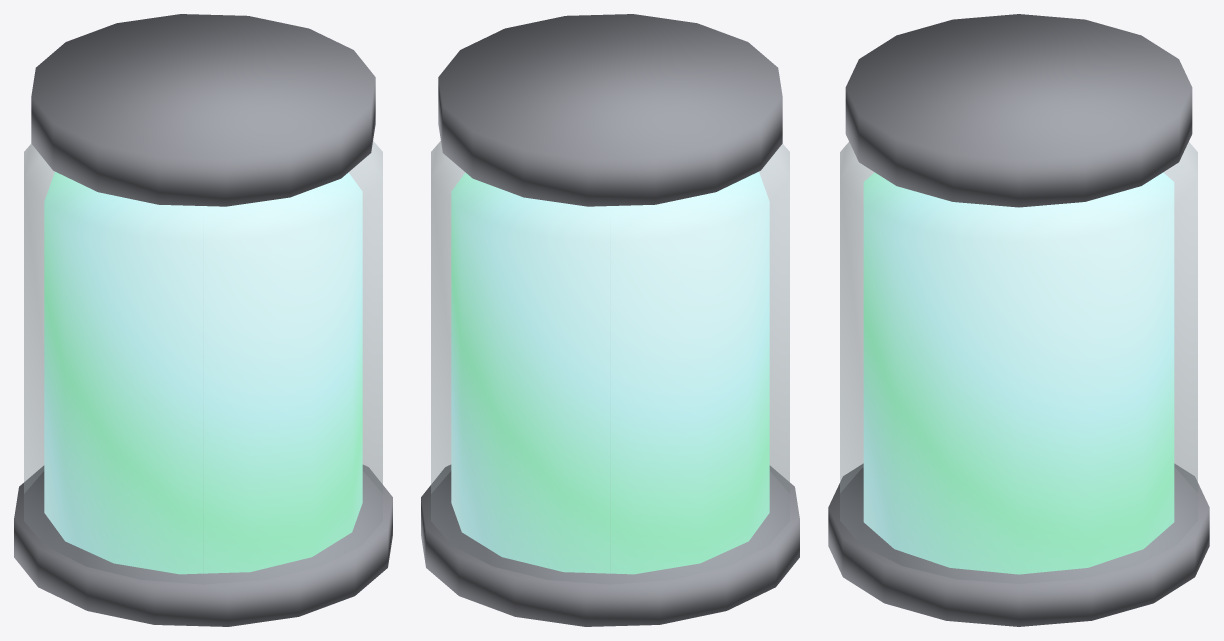
The model's file is specimen_jar_hand.glb.
3 renders of one model, left to right at view 1: azimuth 30°, elevation 25°; view 2: azimuth 150°, elevation 25°; view 3: azimuth 270°, elevation 25°, orthographic.
Visible parts, largest first — view 1: GD_specimen_jar_hand__m0, GD_specimen_jar_hand__m1, GD_specimen_jar_hand__m3; view 2: GD_specimen_jar_hand__m0, GD_specimen_jar_hand__m1, GD_specimen_jar_hand__m3; view 3: GD_specimen_jar_hand__m0, GD_specimen_jar_hand__m1, GD_specimen_jar_hand__m3.
Boxes of the visible parts, left/top/right/bottom form: GD_specimen_jar_hand__m0: left=24, top=141, right=382, bottom=584; GD_specimen_jar_hand__m1: left=44, top=172, right=362, bottom=574; GD_specimen_jar_hand__m3: left=14, top=14, right=392, bottom=626; GD_specimen_jar_hand__m0: left=431, top=141, right=789, bottom=584; GD_specimen_jar_hand__m1: left=451, top=172, right=769, bottom=574; GD_specimen_jar_hand__m3: left=421, top=14, right=799, bottom=626; GD_specimen_jar_hand__m0: left=840, top=142, right=1197, bottom=583; GD_specimen_jar_hand__m1: left=863, top=172, right=1174, bottom=574; GD_specimen_jar_hand__m3: left=828, top=14, right=1209, bottom=626.
Size of the model in its own units: 0.22 by 0.2925 by 0.22.
